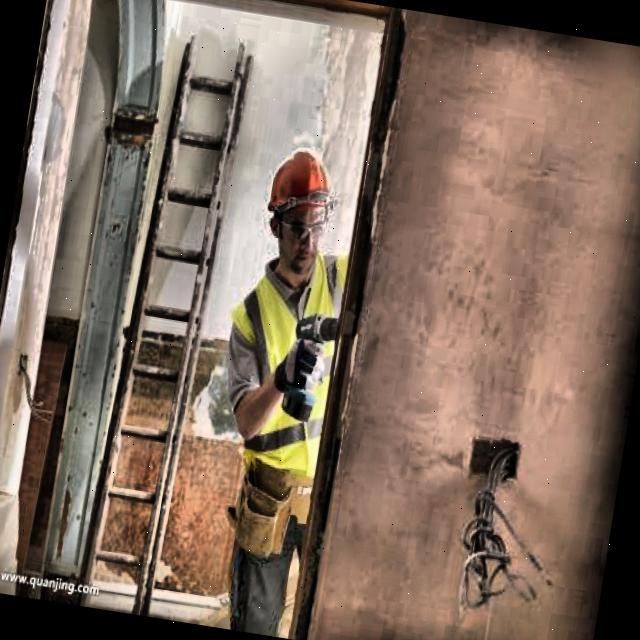helmet: (250, 138, 346, 288)
